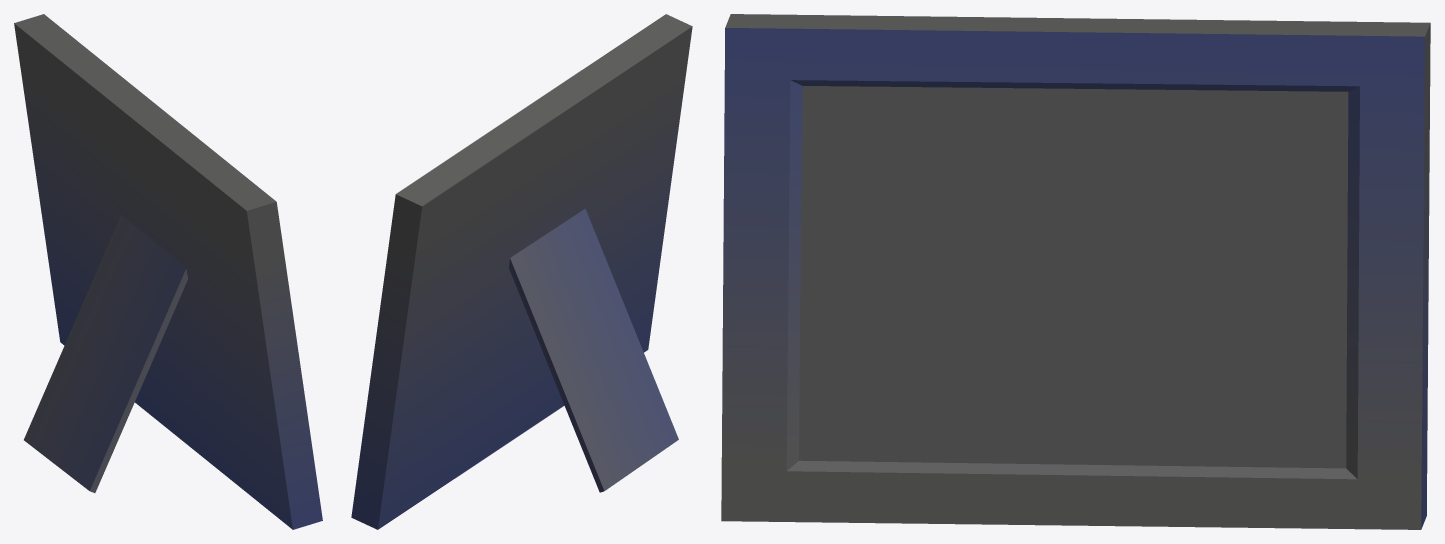
Rendered from Office2_Photoframe1.fbx.
3 renders of one model, left to right at view 1: azimuth 30°, elevation 25°; view 2: azimuth 150°, elevation 25°; view 3: azimuth 270°, elevation 25°, orthographic. The views are drawn at different scales.
Parts seen in each view (by area): view 1: Office2_Photoframe1; view 2: Office2_Photoframe1; view 3: Office2_Photoframe1.
Boxes of the visible parts, x1,y1,x2,y2 form: Office2_Photoframe1: (14, 14, 322, 529); Office2_Photoframe1: (351, 14, 692, 529); Office2_Photoframe1: (721, 14, 1430, 529).
Size of the model in its own units: 12.54 by 24.9 by 34.04.
